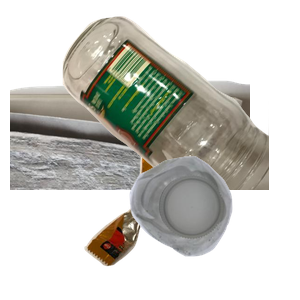glass: (60, 14, 300, 194)
paper: (10, 77, 250, 257)
plastic: (127, 154, 300, 300)
trash: (82, 151, 260, 300)
